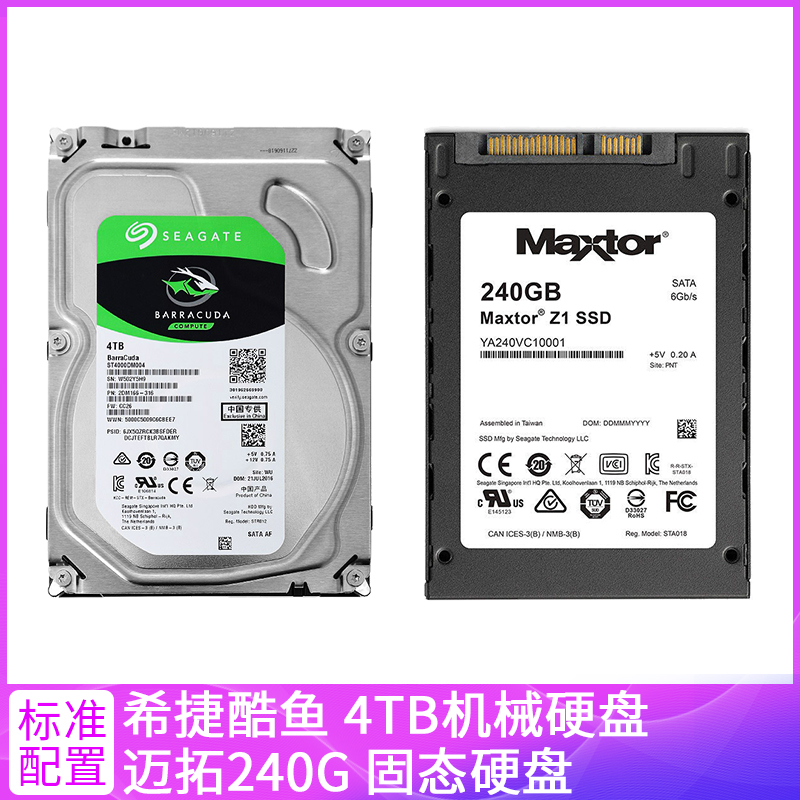seagate-hdd-240gb: (46, 116, 393, 591)
